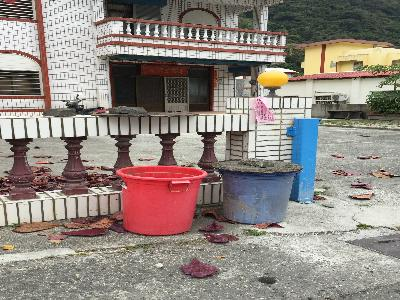bucket: (115, 165, 208, 235), (210, 156, 302, 226)
